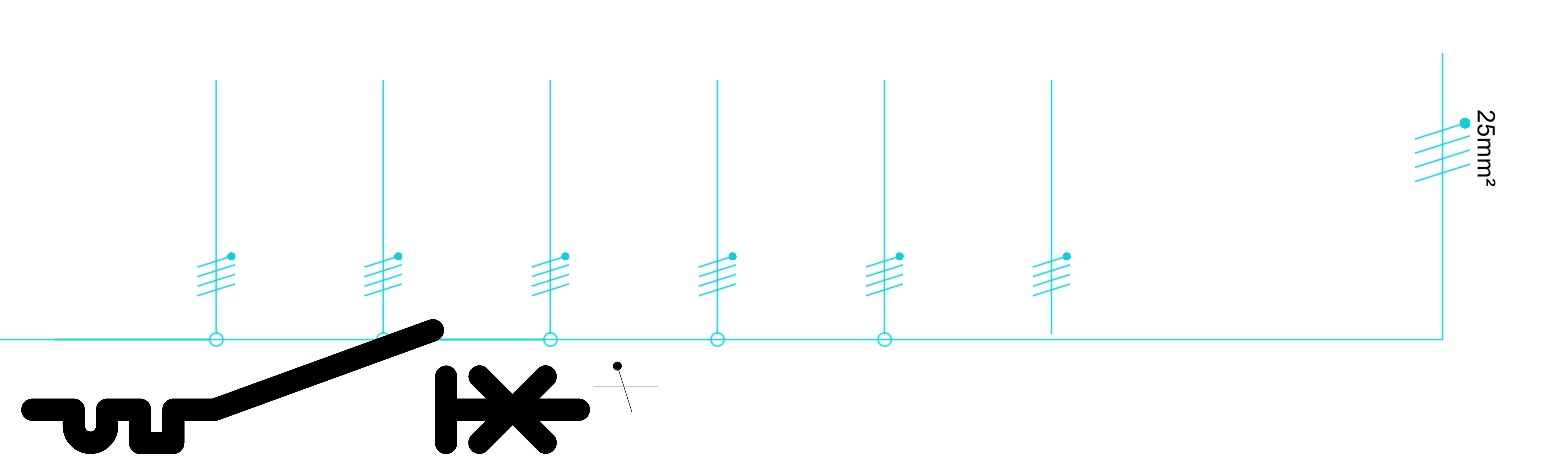interruptor_termomagnetico: (18, 316, 593, 457)
